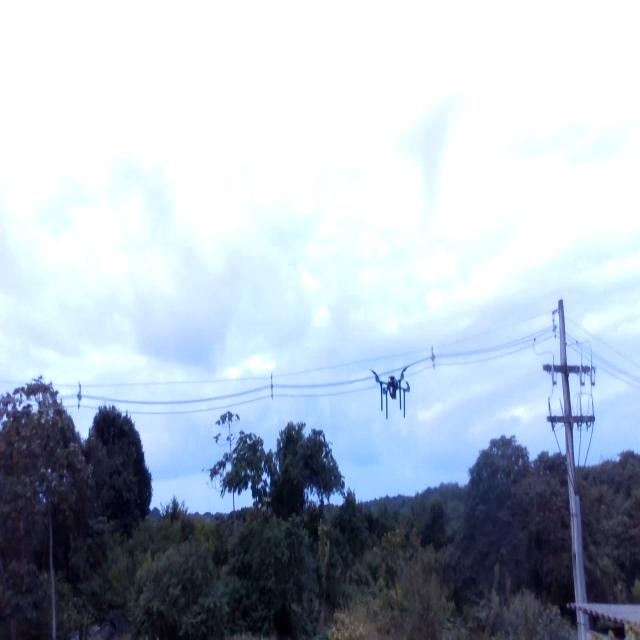-uav-: (360, 356, 424, 436)
